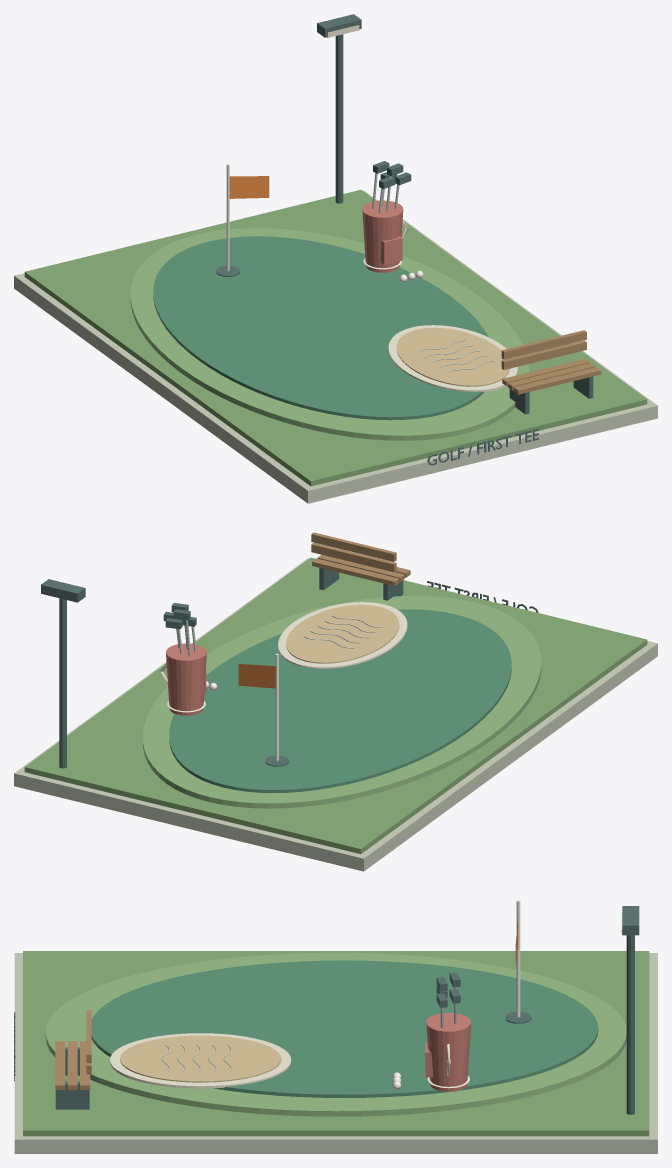
File: golf-green.glb
3 renders of one model, top to bottom at view 1: azimuth 30°, elevation 25°; view 2: azimuth 150°, elevation 25°; view 3: azimuth 270°, elevation 25°, orthographic. The views are drawn at different scales.
Parts seen in each view (by area): view 1: Putting Turf.001, Lawn.001, Fairway.001, Trim.001, Sand.001, Steel.001, Wood.001, Bag.001, Ivory.001, Orange.001; view 2: Putting Turf.001, Lawn.001, Fairway.001, Trim.001, Sand.001, Steel.001, Wood.001, Bag.001, Ivory.001, Orange.001; view 3: Putting Turf.001, Lawn.001, Fairway.001, Trim.001, Sand.001, Steel.001, Bag.001, Ivory.001, Wood.001, White.001.
Part boxes in pixels (left/top/right/bottom): Putting Turf.001: left=153, top=236, right=488, bottom=420; Lawn.001: left=24, top=189, right=647, bottom=486; Fairway.001: left=130, top=228, right=528, bottom=440; Trim.001: left=14, top=190, right=657, bottom=503; Sand.001: left=396, top=327, right=509, bottom=386; Steel.001: left=216, top=14, right=593, bottom=465; Wood.001: left=501, top=330, right=600, bottom=394; Bag.001: left=362, top=200, right=403, bottom=272; Ivory.001: left=327, top=25, right=517, bottom=392; Orange.001: left=229, top=176, right=269, bottom=198; Putting Turf.001: left=169, top=609, right=511, bottom=792; Lawn.001: left=24, top=557, right=647, bottom=853; Fairway.001: left=143, top=596, right=541, bottom=808; Trim.001: left=14, top=558, right=657, bottom=871; Sand.001: left=286, top=604, right=399, bottom=663; Steel.001: left=41, top=568, right=538, bottom=768; Wood.001: left=311, top=532, right=410, bottom=585; Bag.001: left=166, top=643, right=206, bottom=715; Ivory.001: left=160, top=602, right=407, bottom=712; Orange.001: left=238, top=664, right=275, bottom=688; Putting Turf.001: left=91, top=960, right=598, bottom=1097; Lawn.001: left=23, top=951, right=649, bottom=1136; Fairway.001: left=45, top=952, right=626, bottom=1116; Trim.001: left=14, top=953, right=657, bottom=1153; Sand.001: left=120, top=1035, right=281, bottom=1082; Steel.001: left=14, top=906, right=639, bottom=1114; Bag.001: left=425, top=1012, right=470, bottom=1091; Ivory.001: left=110, top=912, right=622, bottom=1088; Wood.001: left=55, top=1010, right=91, bottom=1089; White.001: left=516, top=900, right=520, bottom=1017.
Size of the model in its own units: 5.7 by 3.11 by 8.31.
